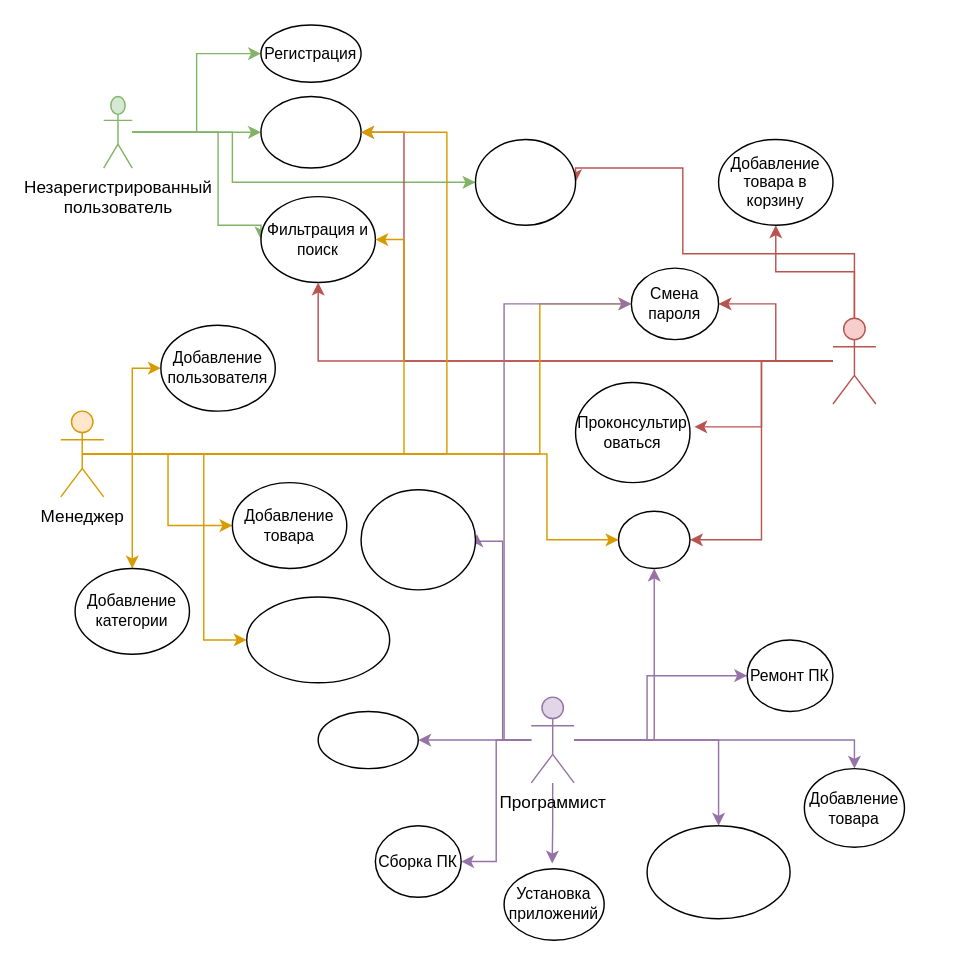
Some shapes in this 965 by 965 pixel diagram are drawn without their labels. Each missing label, with the centre of its shape:
"Вход" belongs at point 653,539.
"Зарегистрированный пользователь" belongs at point 854,360.
"Консультирование" belongs at point 317,639.
"Настройка ПК" belongs at point 367,739.
"Оформить монтаж" belongs at point 525,181.
"Повышение посещаемости сайта" belongs at point 417,539.
"Просмотр товара" belongs at point 310,131.
"Редактирование товарных карточек" belongs at point 718,871.
